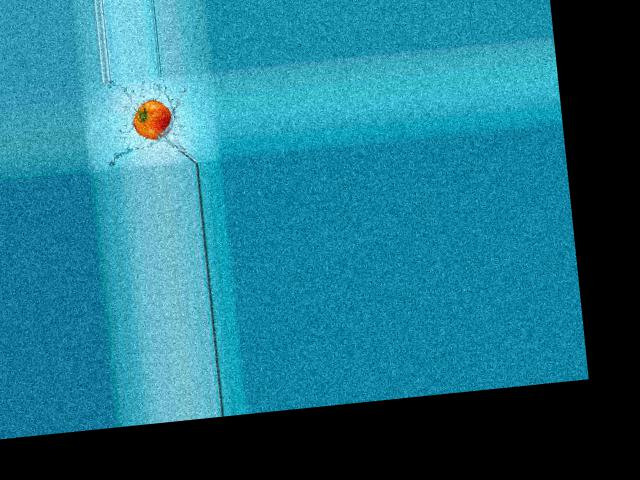tomato: (131, 97, 173, 141)
